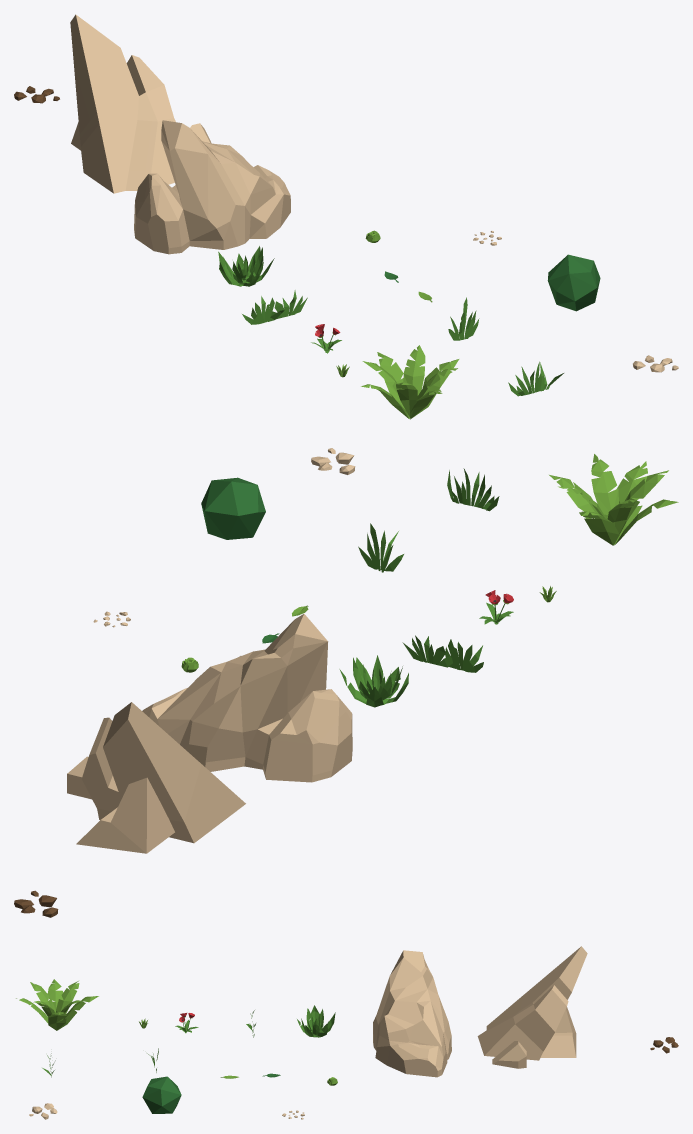
Rendered from plant.glb.
3 views of the same model, one above another, from view 1: azimuth 30°, elevation 25°; view 2: azimuth 150°, elevation 25°; view 3: azimuth 270°, elevation 25° (orthographic). The views are drawn at different scales.
Visible parts, largest first — view 1: rock-large, rock-sharp, palm-bush-big, shrub, plant-bush-small, grass-long, grass; view 2: rock-large, rock-sharp, palm-bush-big, shrub, plant-bush-small, grass-long, grass, grass-basic; view 3: rock-large, rock-sharp, palm-bush-big, shrub, plant-bush-small.
Part boxes in pixels (x1,y1,x2,y2): rock-large: (134,120,290,254); rock-sharp: (70,14,211,193); palm-bush-big: (361,345,459,419); shrub: (547,254,600,311); plant-bush-small: (218,246,274,286); grass-long: (242,290,307,324); grass: (508,361,563,396); rock-large: (142,614,352,782); rock-sharp: (67,702,245,853); palm-bush-big: (549,454,678,545); shrub: (201,477,265,539); plant-bush-small: (339,655,408,707); grass-long: (402,635,483,672); grass: (447,468,499,511); grass-basic: (358,523,403,572); rock-large: (373,950,451,1077); rock-sharp: (477,946,587,1068); palm-bush-big: (16,979,98,1030); shrub: (142,1076,181,1113); plant-bush-small: (297,1005,335,1037).
Size of the model in its own units: 9.54 by 3.81 by 24.18.
